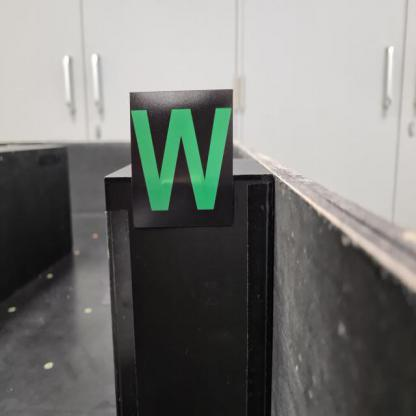w: (130, 90, 234, 227)
